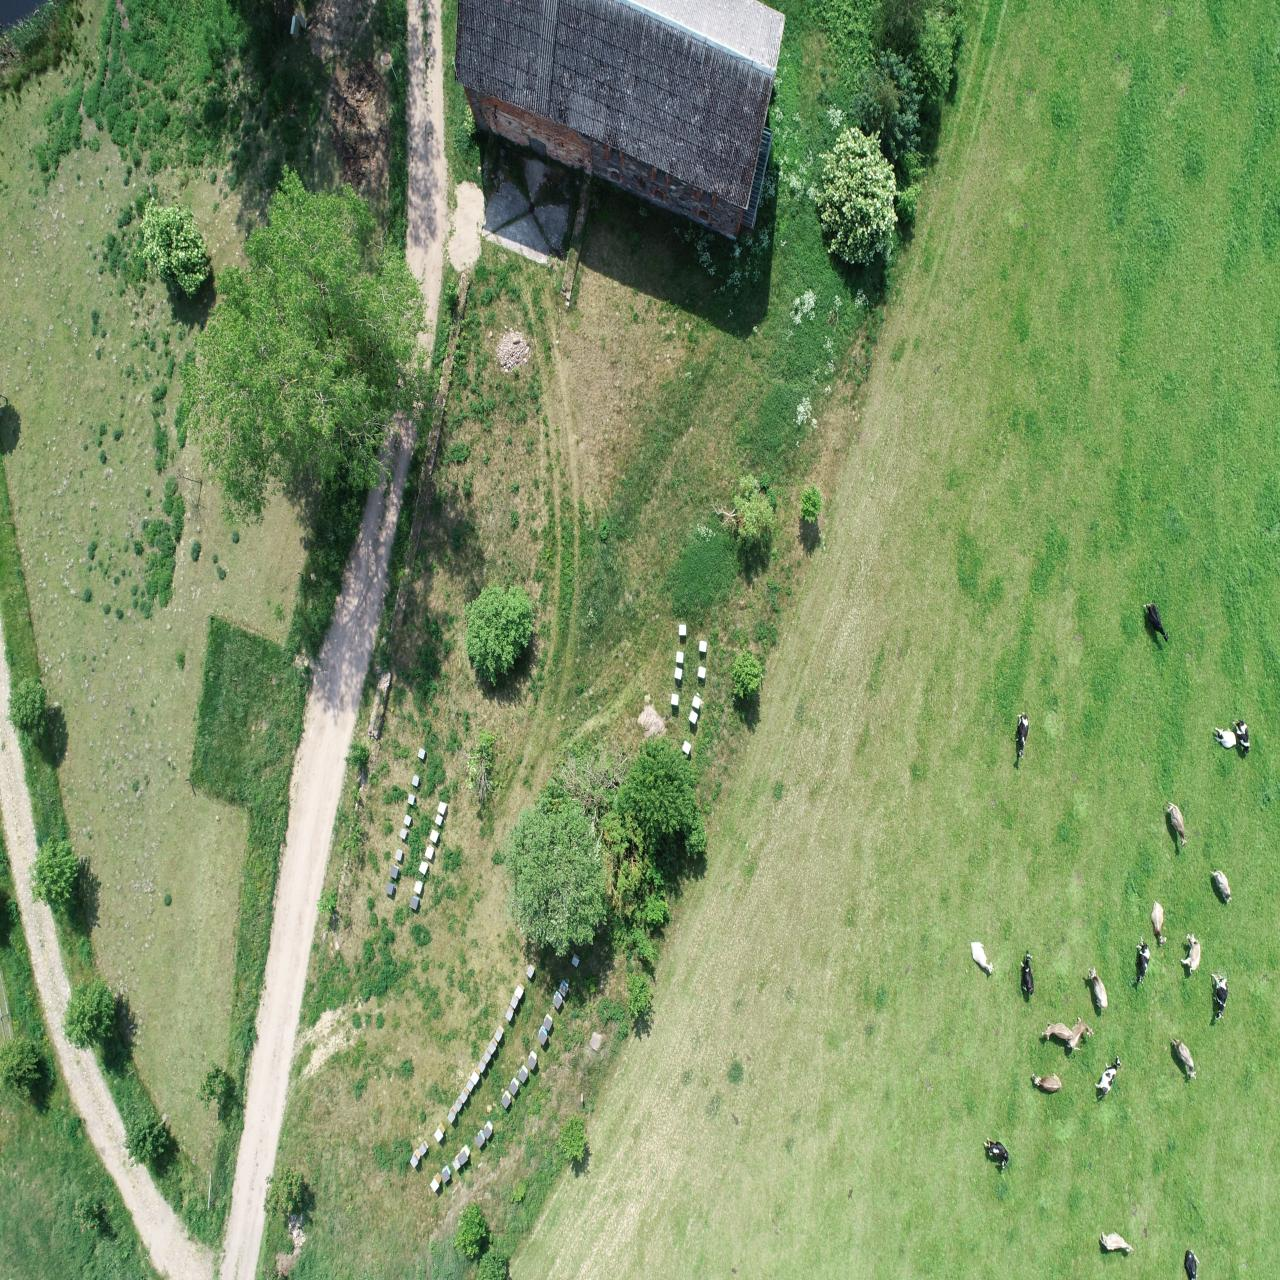cow: (1094, 1051, 1124, 1102), (1142, 598, 1172, 647), (1162, 798, 1190, 849), (1169, 1035, 1198, 1082), (1064, 1015, 1096, 1054), (1208, 969, 1231, 1022), (1178, 931, 1203, 976), (1087, 965, 1110, 1012), (981, 1135, 1010, 1172), (1098, 1228, 1135, 1258), (1207, 866, 1233, 907), (969, 939, 995, 979), (1020, 946, 1039, 1000), (1149, 898, 1167, 949), (1032, 1069, 1064, 1096), (1040, 1019, 1074, 1042), (1230, 717, 1251, 755), (1015, 712, 1030, 760), (1213, 724, 1237, 751), (1183, 1247, 1201, 1280)
